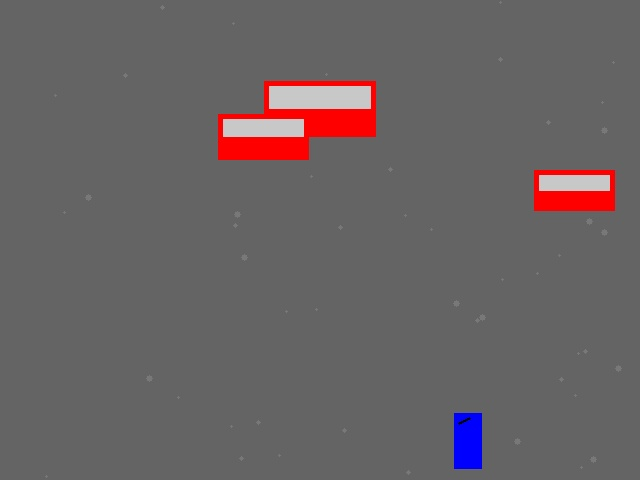car: (264, 81, 375, 136), (218, 114, 308, 159), (534, 170, 614, 210)
motorcycle: (454, 413, 481, 468)
